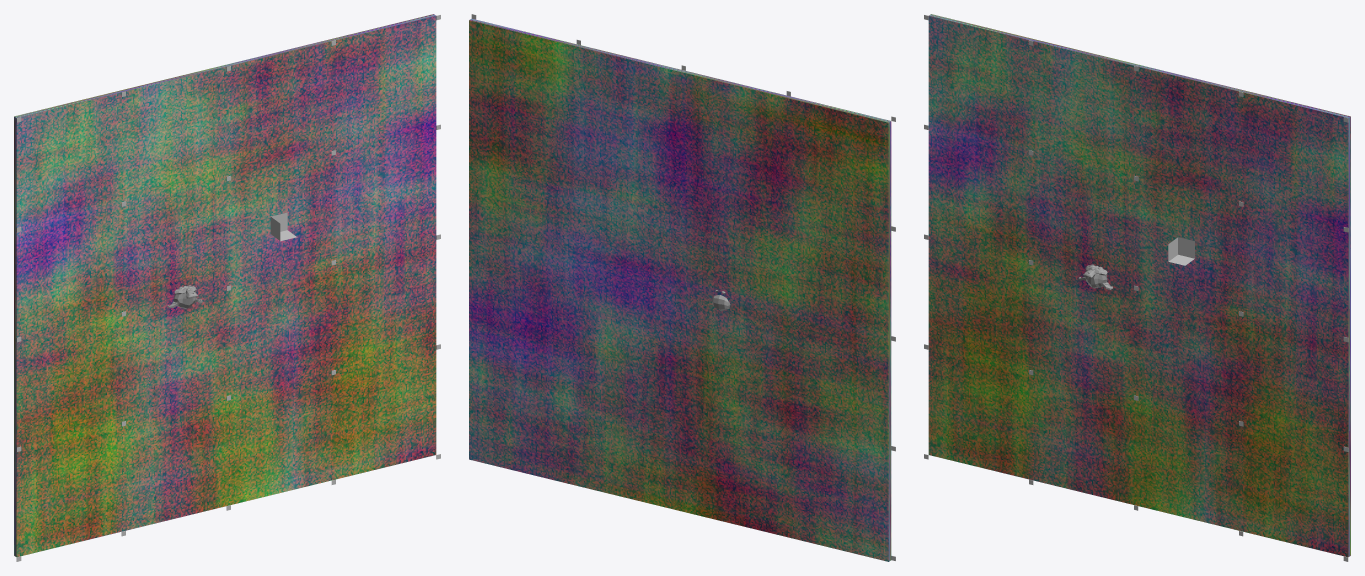
3 renders of one model, left to right at view 1: azimuth 30°, elevation 25°; view 2: azimuth 150°, elevation 25°; view 3: azimuth 330°, elevation 25°, orthographic.
Parts seen in each view (by area): view 1: noiseCube_Cube.026; view 2: noiseCube_Cube.026; view 3: noiseCube_Cube.026, trichecker3_Cube.025.
Part boxes in pixels (x1,y1,x2,y2): noiseCube_Cube.026: (14,14,436,557); noiseCube_Cube.026: (469,18,891,561); noiseCube_Cube.026: (928,14,1350,557); trichecker3_Cube.025: (1168,237,1194,265).
Size of the model in its own units: 101 by 101 by 6.95.
